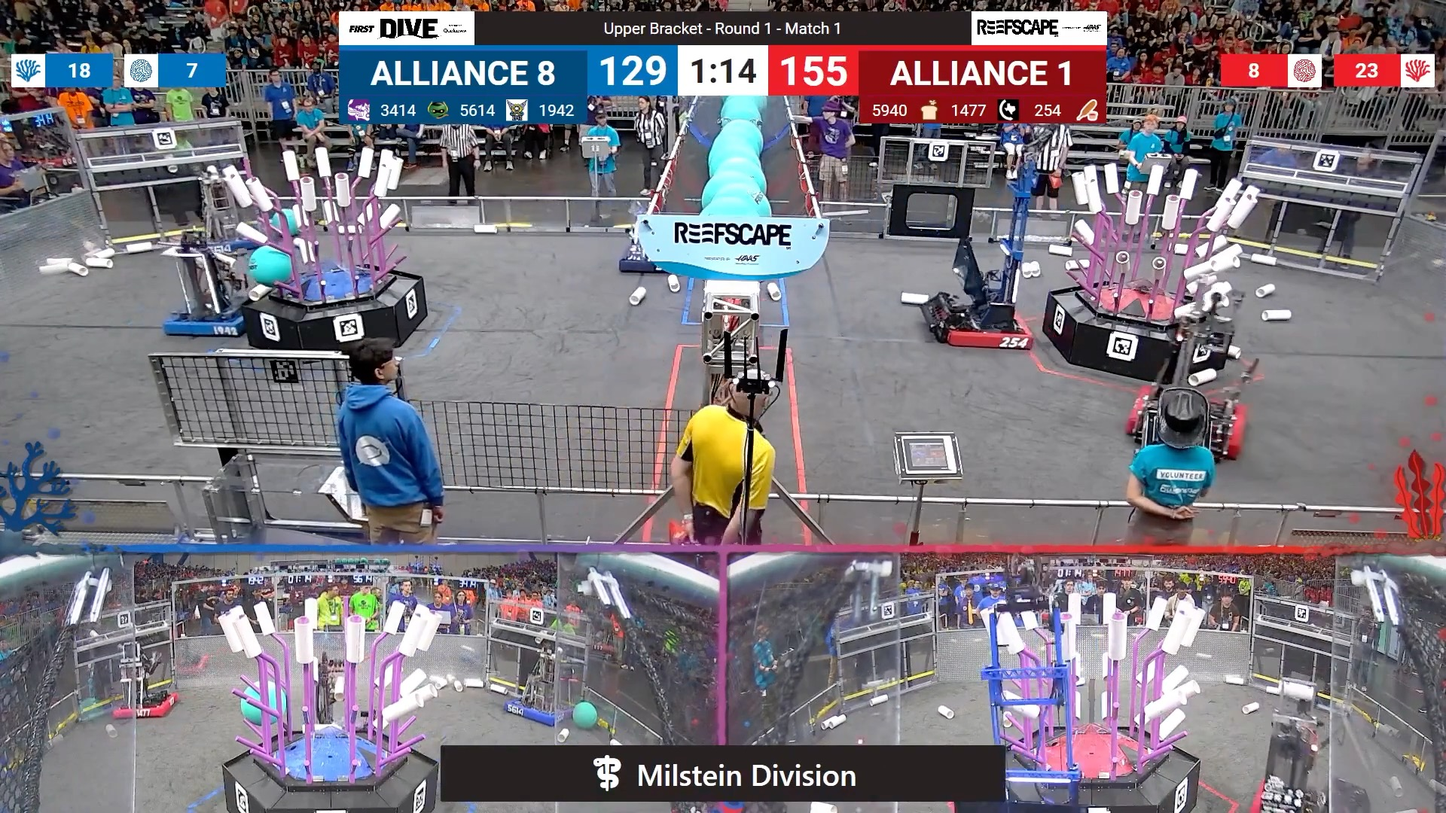bumpers: (1112, 383, 1255, 466), (922, 296, 1041, 356), (160, 293, 253, 343), (501, 694, 581, 730), (108, 691, 186, 724), (612, 245, 672, 276)
